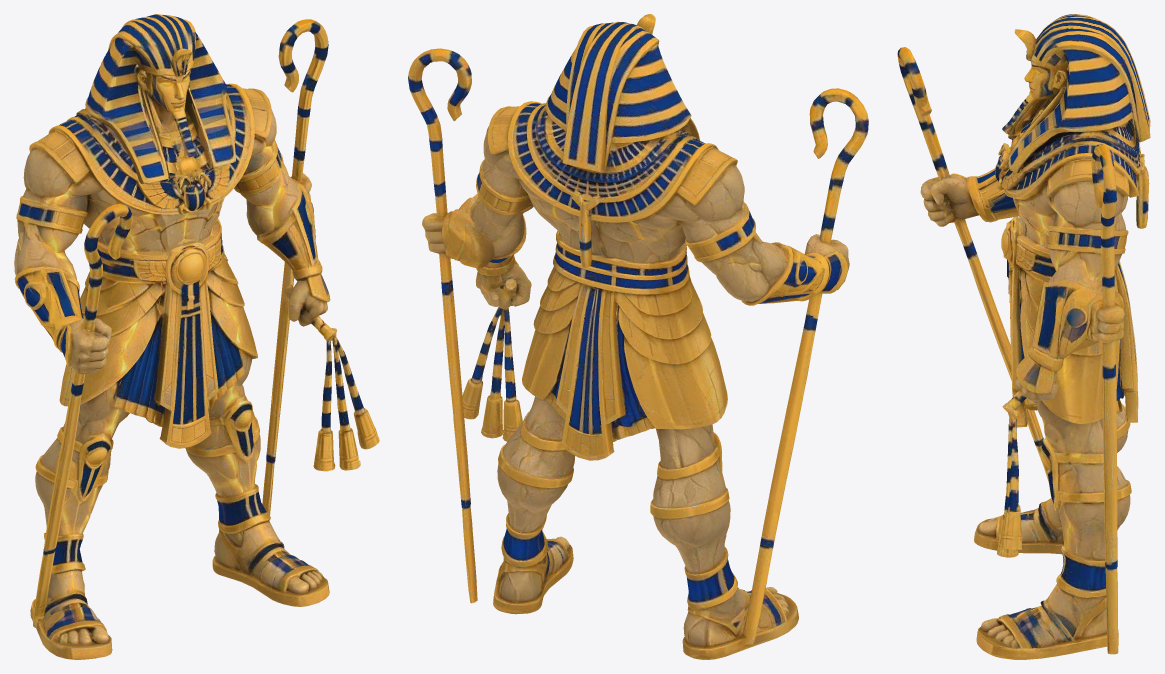
File: desert_pharaoh.glb
3 views of the same model, side by side, from view 1: azimuth 30°, elevation 25°; view 2: azimuth 150°, elevation 25°; view 3: azimuth 270°, elevation 25° (orthographic). The views are drawn at different scales.
Parts seen in each view (by area): view 1: Mesh_0; view 2: Mesh_0; view 3: Mesh_0.
Part boxes in pixels (x1=…): Mesh_0: x1=14, y1=14, x2=379, y2=659; Mesh_0: x1=408, y1=14, x2=868, y2=659; Mesh_0: x1=897, y1=14, x2=1150, y2=659.
Bounding box in the file's own units: 1.19 × 1.9 × 0.7602.
1 material, 1 textured.
